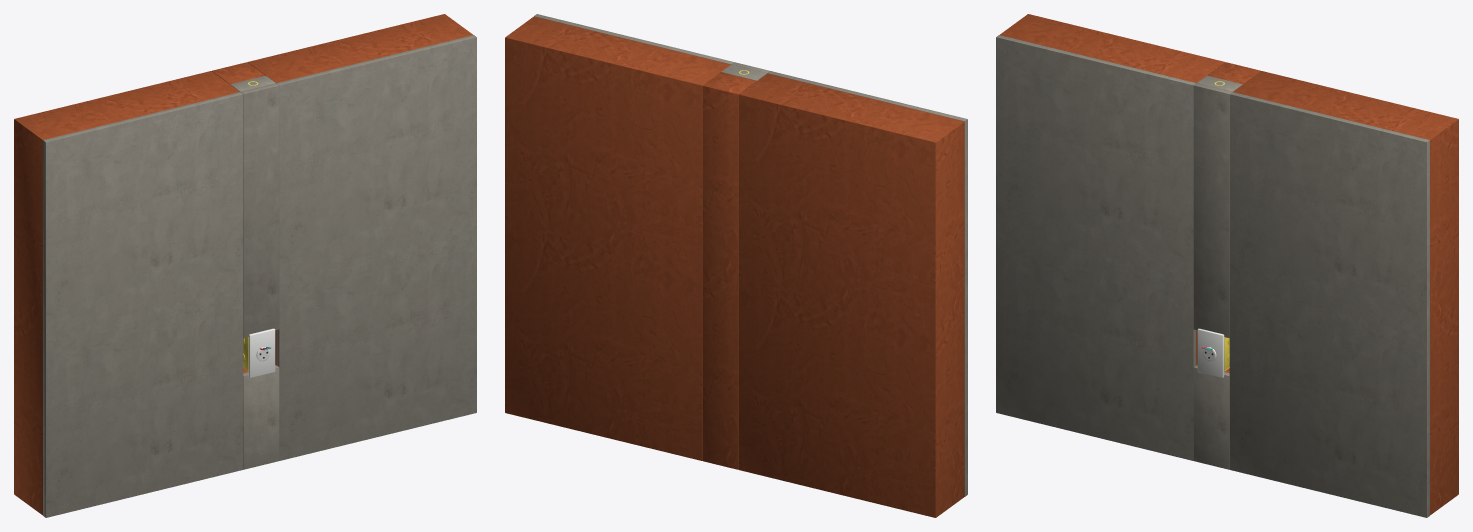
Rendered from KIT-ELE-01.glb.
3 views of the same model, side by side, from view 1: azimuth 30°, elevation 25°; view 2: azimuth 150°, elevation 25°; view 3: azimuth 330°, elevation 25° (orthographic).
Visible parts, largest first — view 1: KIT-ELE-01_reboco_esq, KIT-ELE-01_reboco_dir, KIT-ELE-01_parede_esq, KIT-ELE-01_reboco_cima, KIT-ELE-01_parede_dir, KIT-ELE-01_reboco_baixo, KIT-ELE-01_p1, KIT-ELE-01_parede_fundo; view 2: KIT-ELE-01_parede_esq, KIT-ELE-01_parede_dir, KIT-ELE-01_parede_fundo, KIT-ELE-01_reboco_esq, KIT-ELE-01_reboco_dir; view 3: KIT-ELE-01_reboco_dir, KIT-ELE-01_reboco_esq, KIT-ELE-01_parede_dir, KIT-ELE-01_reboco_cima, KIT-ELE-01_parede_esq, KIT-ELE-01_reboco_baixo, KIT-ELE-01_p1, KIT-ELE-01_parede_fundo.
Boxes of the visible parts, left/top/right/bottom form: KIT-ELE-01_reboco_esq: left=43, top=92, right=243, bottom=517; KIT-ELE-01_reboco_dir: left=276, top=35, right=476, bottom=460; KIT-ELE-01_parede_esq: left=14, top=71, right=239, bottom=515; KIT-ELE-01_reboco_cima: left=241, top=83, right=279, bottom=337; KIT-ELE-01_parede_dir: left=247, top=14, right=472, bottom=365; KIT-ELE-01_reboco_baixo: left=243, top=365, right=279, bottom=469; KIT-ELE-01_p1: left=248, top=328, right=275, bottom=377; KIT-ELE-01_parede_fundo: left=212, top=62, right=264, bottom=84; KIT-ELE-01_parede_esq: left=738, top=73, right=964, bottom=517; KIT-ELE-01_parede_dir: left=505, top=16, right=730, bottom=460; KIT-ELE-01_parede_fundo: left=702, top=72, right=756, bottom=469; KIT-ELE-01_reboco_esq: left=767, top=71, right=967, bottom=496; KIT-ELE-01_reboco_dir: left=534, top=14, right=733, bottom=64; KIT-ELE-01_reboco_dir: left=1229, top=92, right=1429, bottom=517; KIT-ELE-01_reboco_esq: left=996, top=35, right=1196, bottom=460; KIT-ELE-01_parede_dir: left=1233, top=71, right=1458, bottom=515; KIT-ELE-01_reboco_cima: left=1193, top=83, right=1231, bottom=337; KIT-ELE-01_parede_esq: left=1000, top=14, right=1225, bottom=365; KIT-ELE-01_reboco_baixo: left=1193, top=365, right=1229, bottom=469; KIT-ELE-01_p1: left=1197, top=328, right=1224, bottom=377; KIT-ELE-01_parede_fundo: left=1208, top=62, right=1260, bottom=84.
Size of the model in its own units: 1.2 by 1 by 0.1866.
10 materials, 2 textured.
